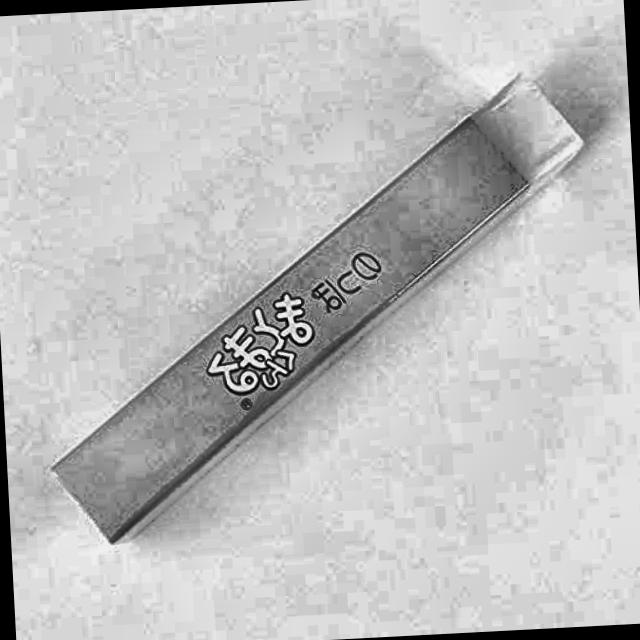eraser: (26, 64, 608, 558)
